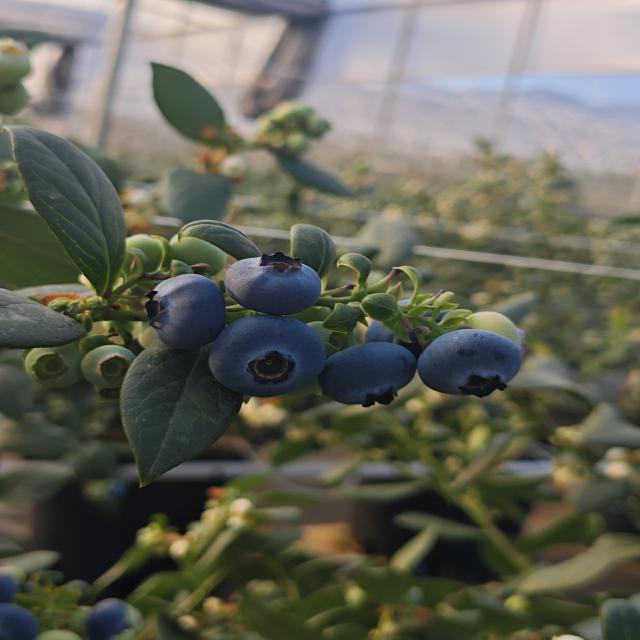ripe: (207, 314, 327, 398), (416, 327, 524, 399), (142, 272, 228, 351), (223, 250, 324, 316), (330, 333, 420, 402), (0, 569, 45, 640), (79, 595, 138, 640)
